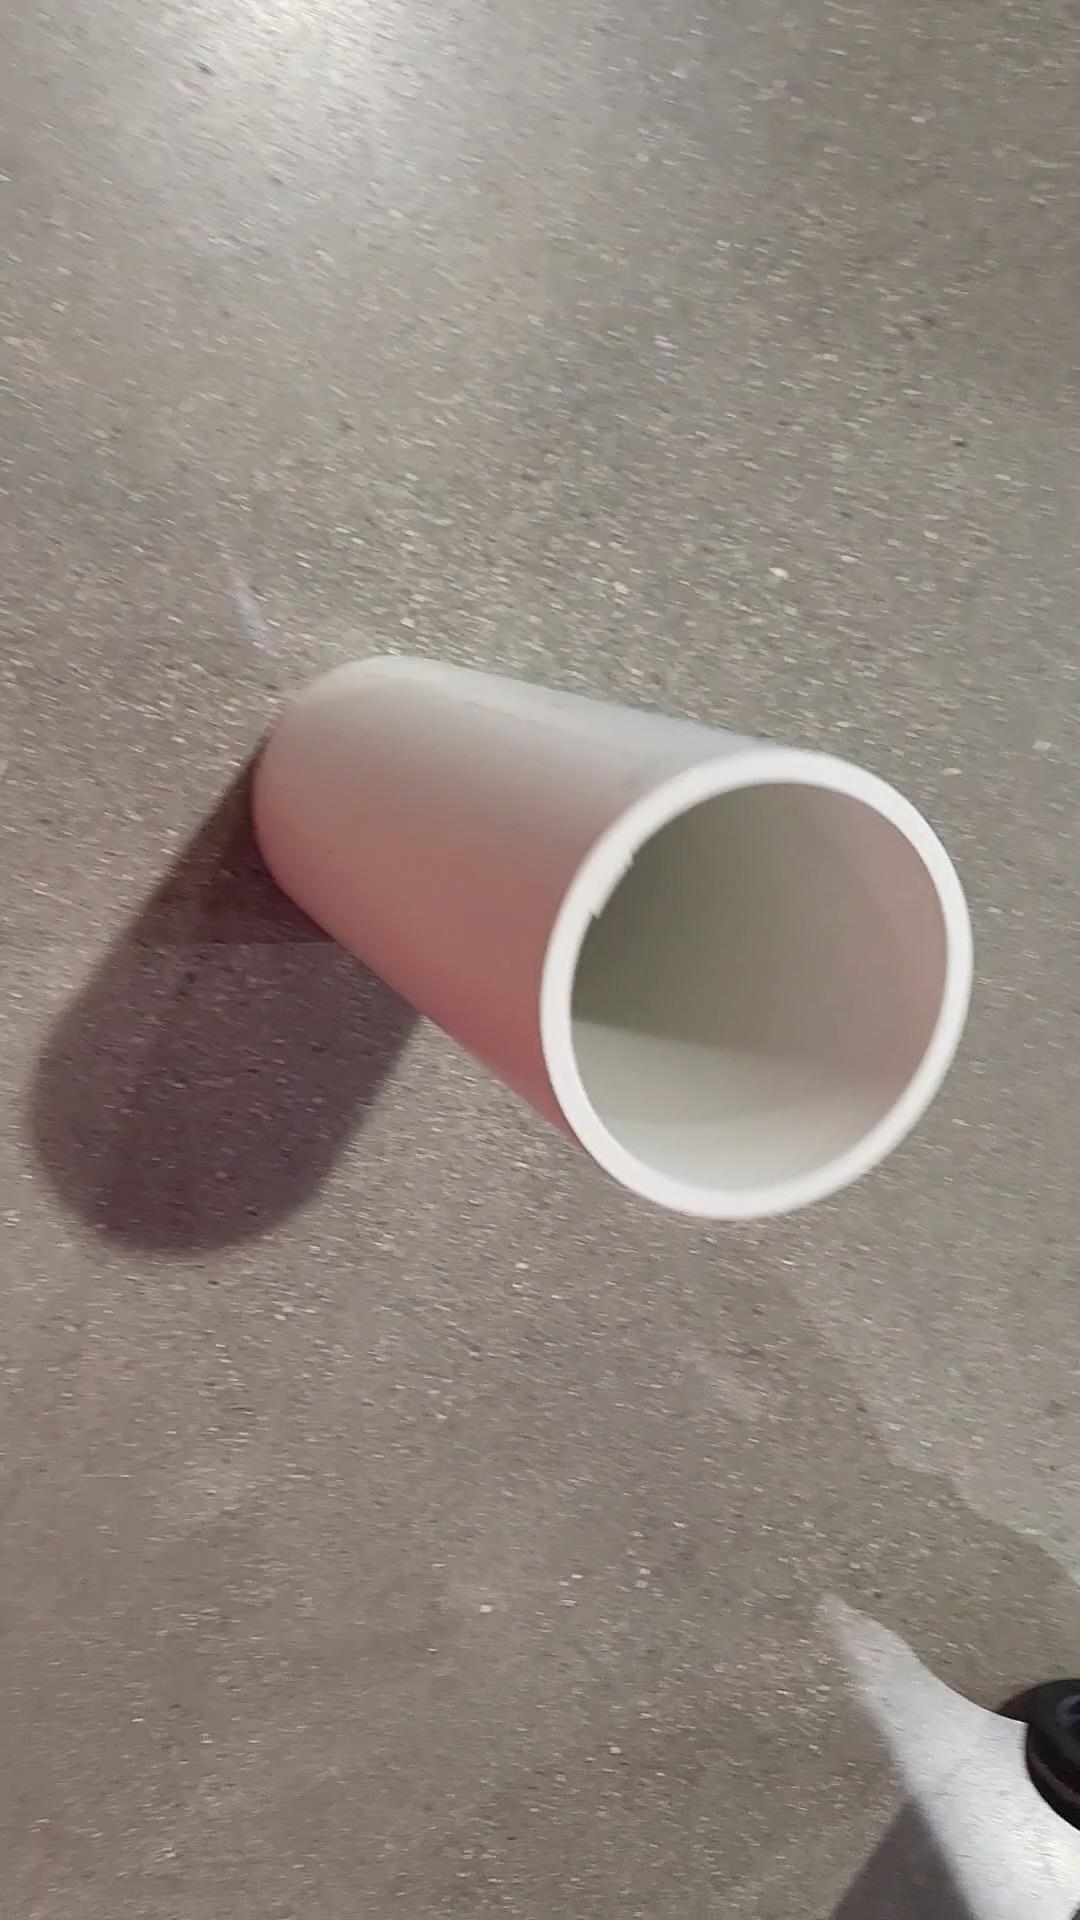coral: (252, 655, 971, 1220)
